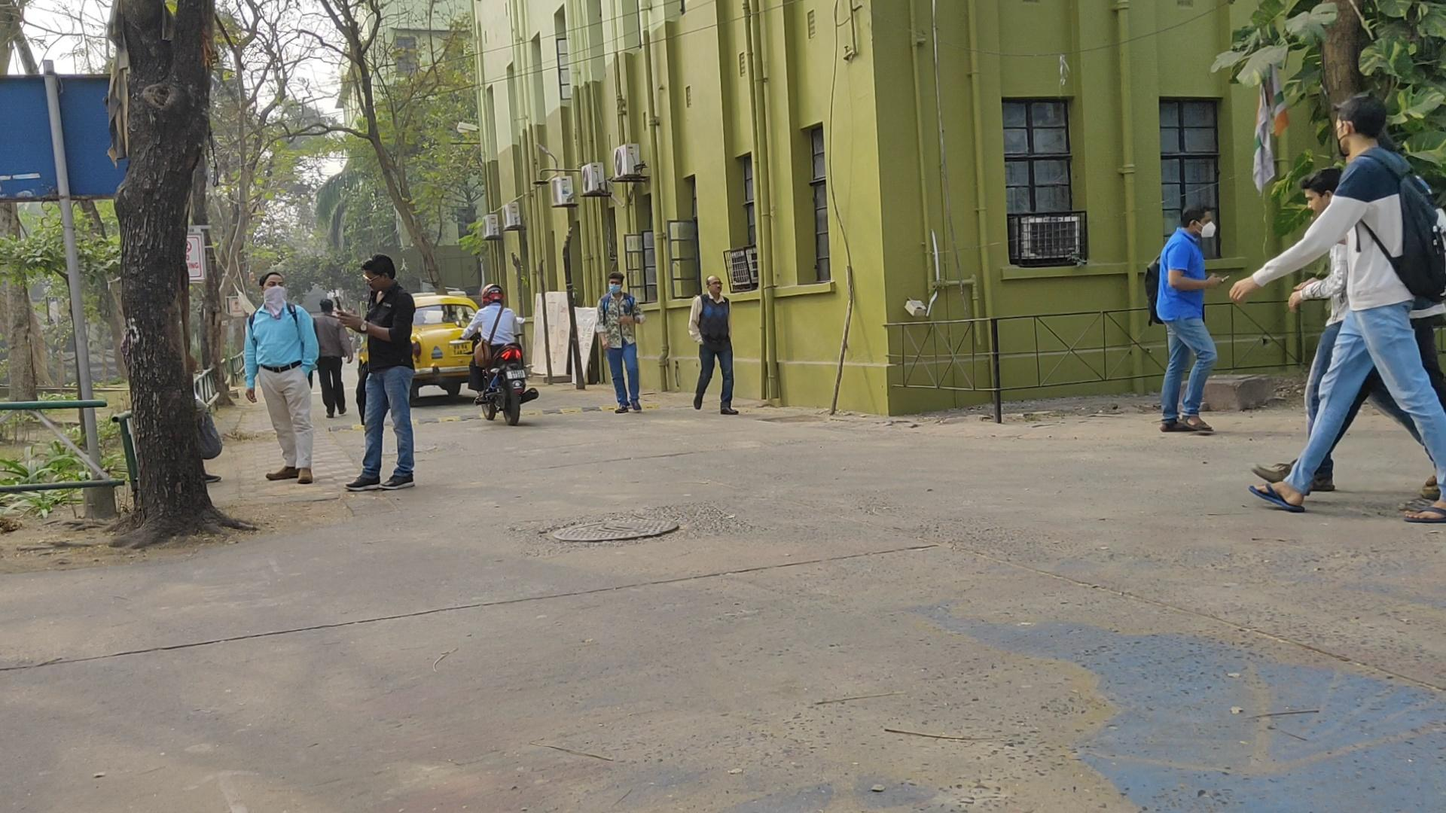bike: (459, 282, 538, 425)
car: (357, 294, 509, 409)
